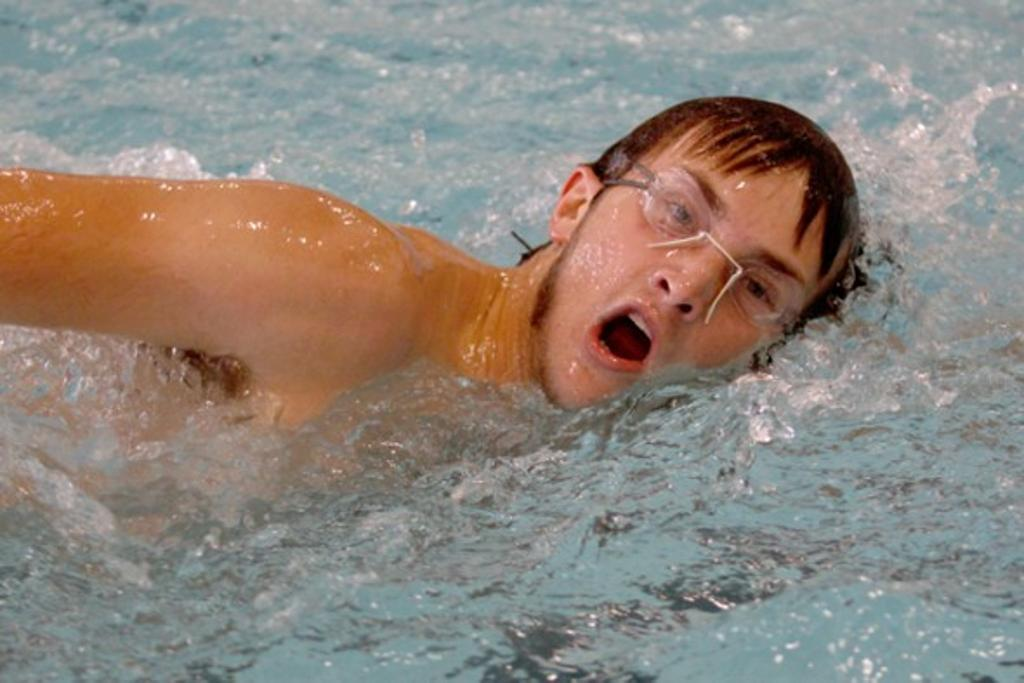face: (555, 165, 815, 409)
